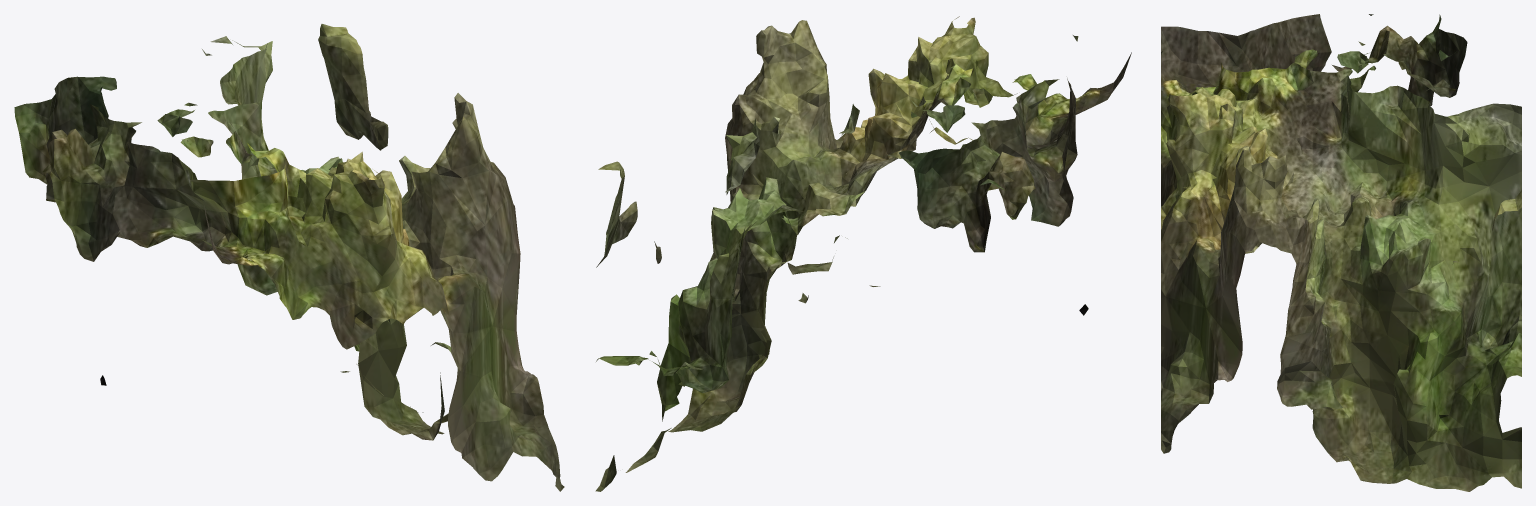
3 renders of one model, left to right at view 1: azimuth 30°, elevation 25°; view 2: azimuth 150°, elevation 25°; view 3: azimuth 270°, elevation 25°, orthographic. The views are drawn at different scales.
Size of the model in its own units: 11.8 by 11.74 by 11.8.
Materials: 5 (5 with a texture image).
